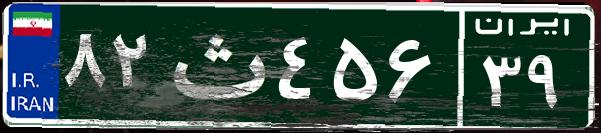2: (110, 28, 158, 105)
3: (475, 38, 525, 113)
4: (273, 28, 330, 110)
5: (330, 28, 385, 110)
6: (385, 28, 445, 110)
8: (57, 26, 110, 107)
9: (525, 38, 570, 115)
ث: (158, 15, 273, 115)
